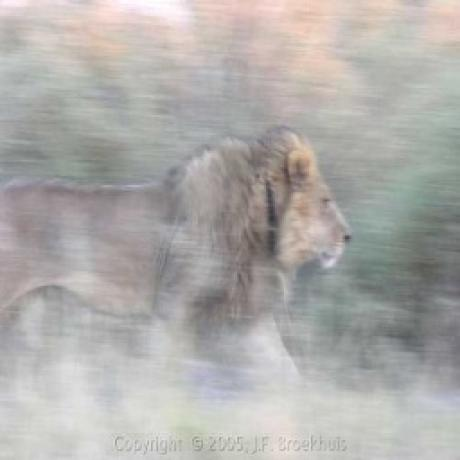Lion: (0, 125, 356, 358)
